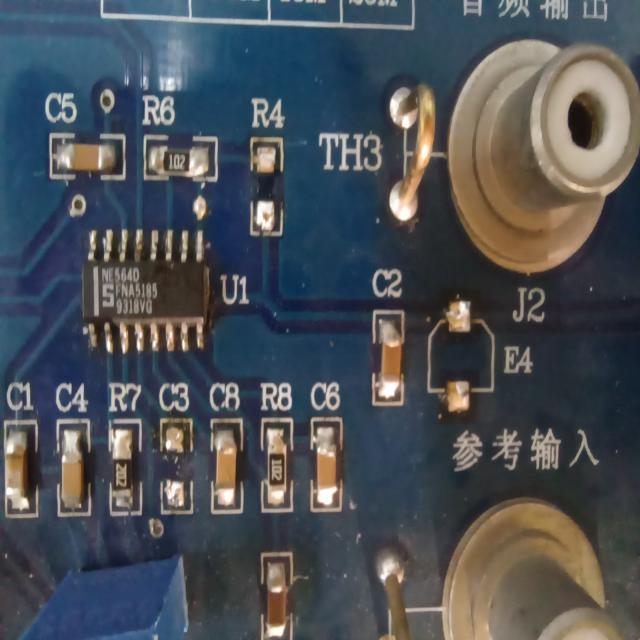Missing component: (423, 287, 513, 427), (241, 86, 293, 242), (152, 376, 202, 528)
